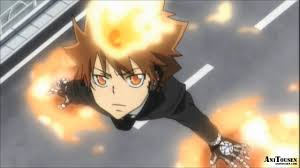Tsuna: (70, 6, 175, 122)
